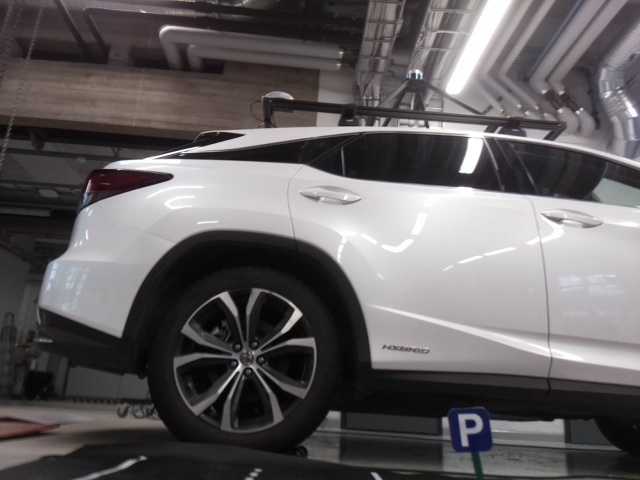Parking: (446, 409, 492, 451)
